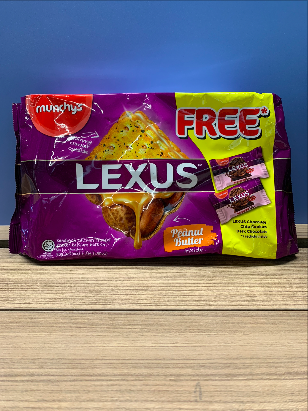Cookies_200-299g: (23, 96, 270, 255)
